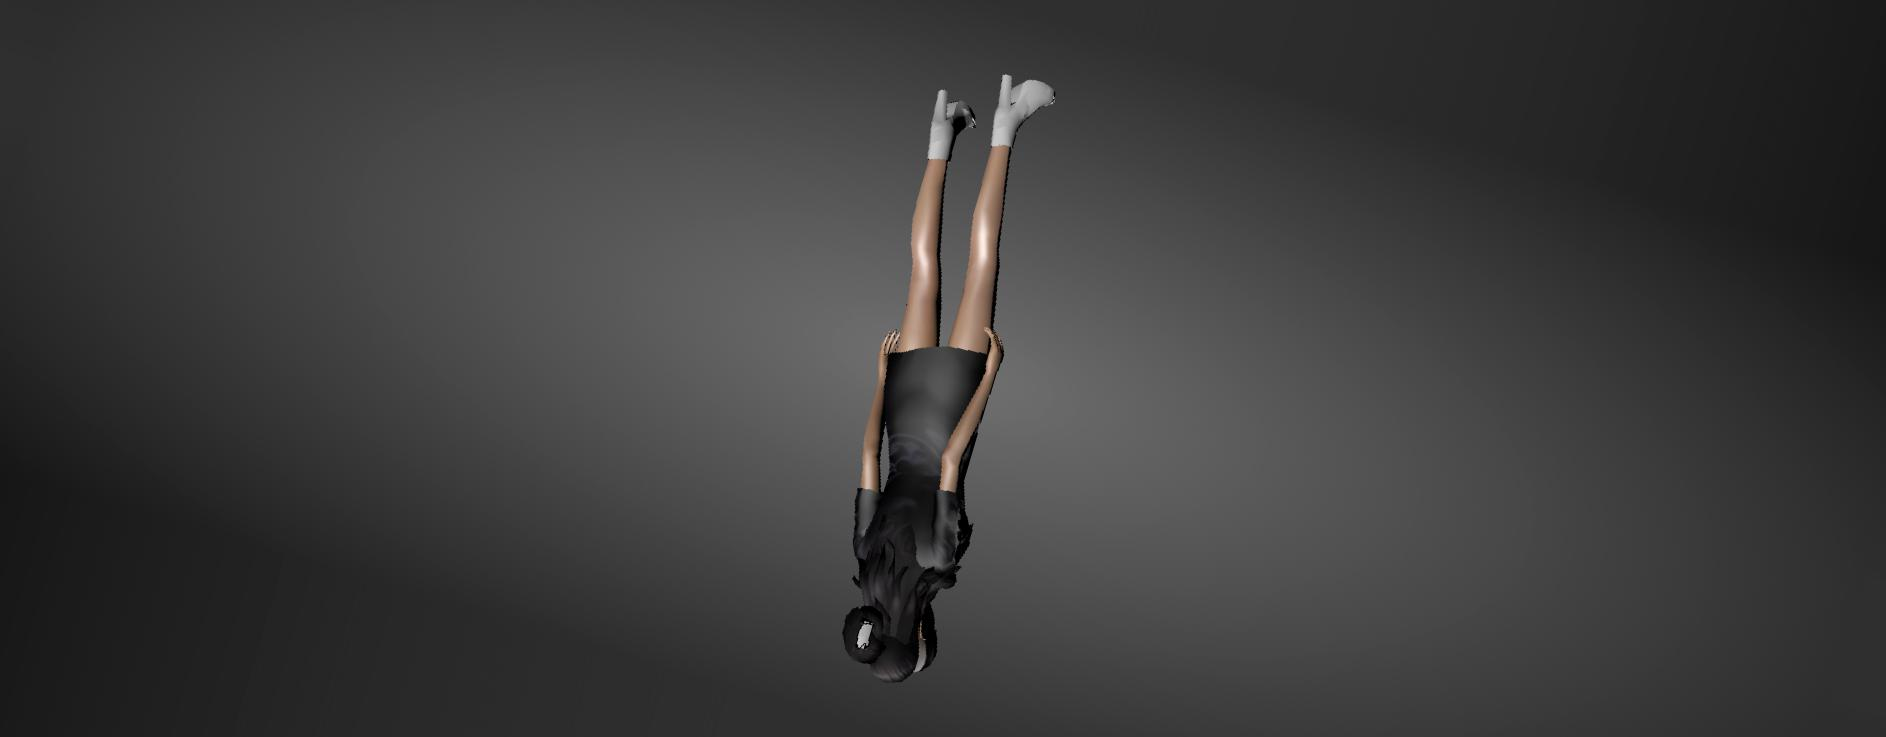clip: (852, 618, 876, 656)
